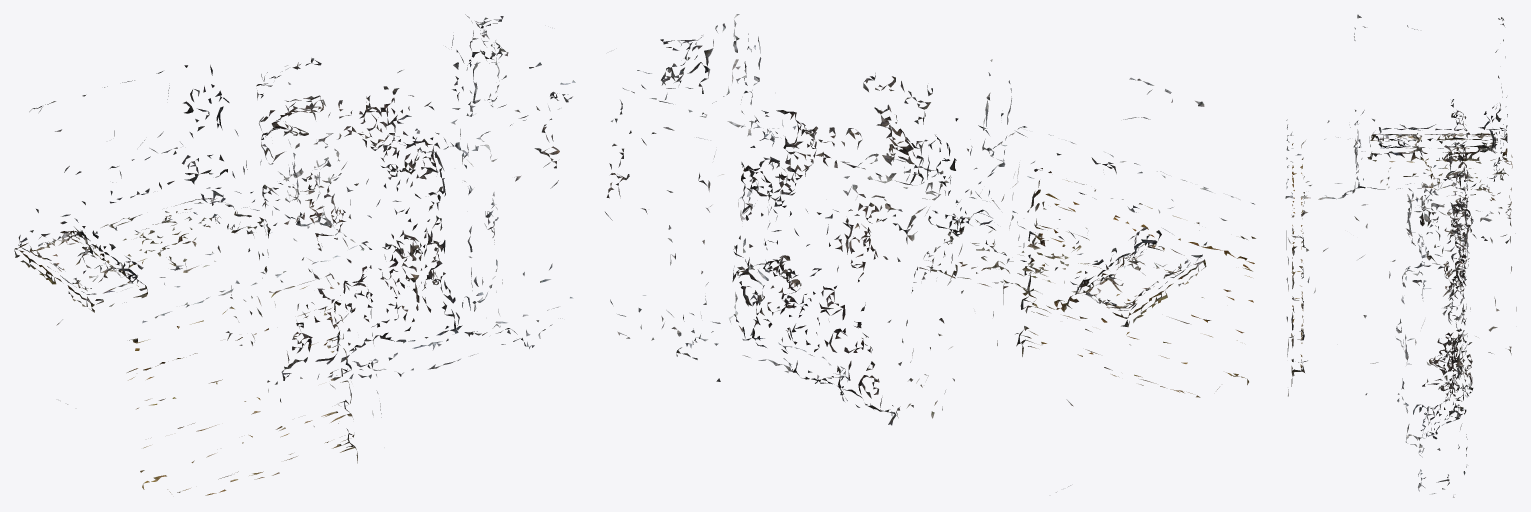
The picture shows the model from 3 angles, left to right: view 1: azimuth 30°, elevation 25°; view 2: azimuth 150°, elevation 25°; view 3: azimuth 270°, elevation 25°; orthographic projection. The views are drawn at different scales.
Size of the model in its own units: 11.77 by 7.12 by 5.08.
1 material, 1 textured.
